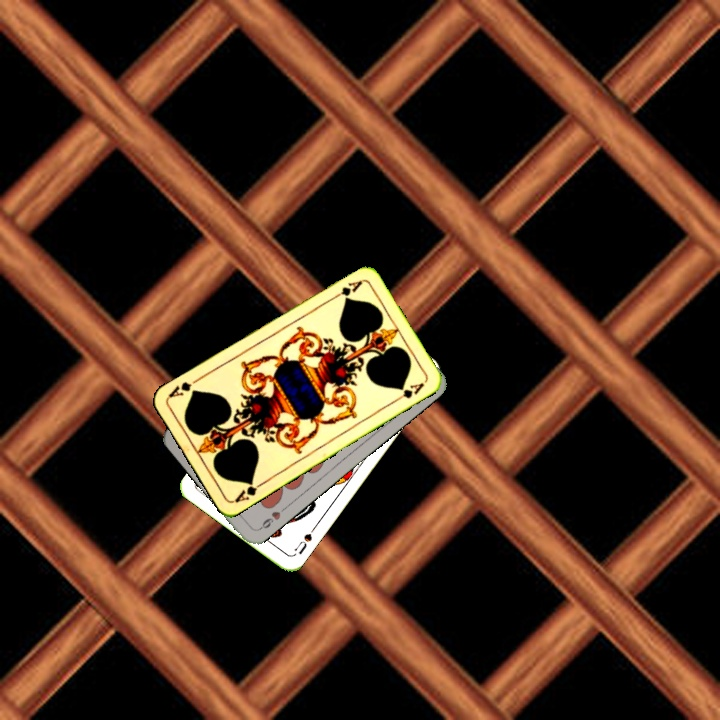GA: (230, 476, 267, 506), (327, 276, 365, 303)
H9: (254, 503, 288, 533)
SU: (290, 523, 318, 557)
